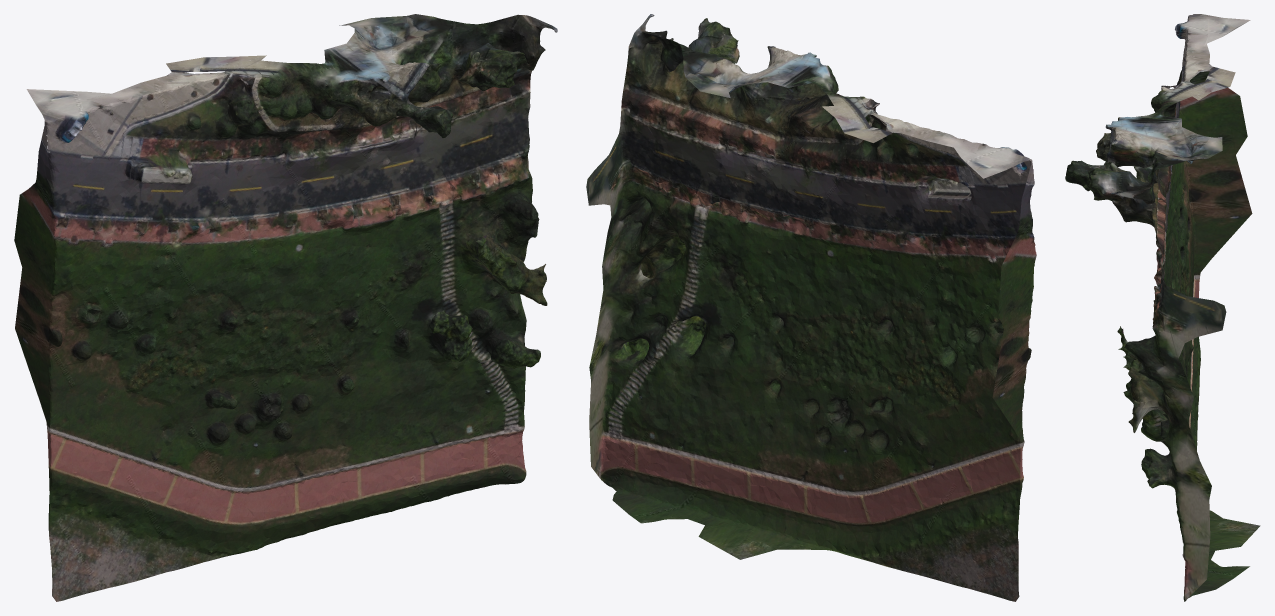
File: Tile_+005_+005.obj
The picture shows the model from 3 angles, left to right: view 1: azimuth 30°, elevation 25°; view 2: azimuth 150°, elevation 25°; view 3: azimuth 270°, elevation 25°; orthographic projection. The views are drawn at different scales.
Parts seen in each view (by area): view 1: Mesh; view 2: Mesh; view 3: Mesh.
Part boxes in pixels (x1,y1,x2,y2): Mesh: (14, 14, 557, 601); Mesh: (586, 14, 1036, 601); Mesh: (1065, 14, 1260, 601).
Size of the model in its own units: 61.42 by 61.5 by 26.07.
1 material, 1 textured.
